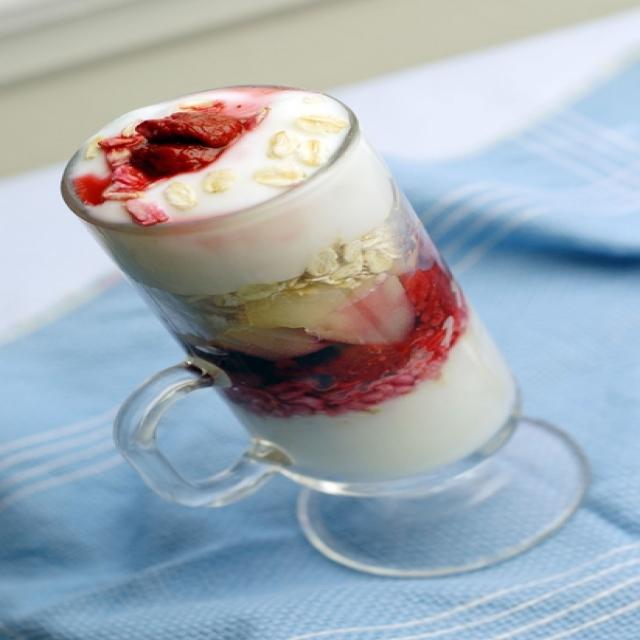蛋糕甜品: (46, 74, 588, 591)
